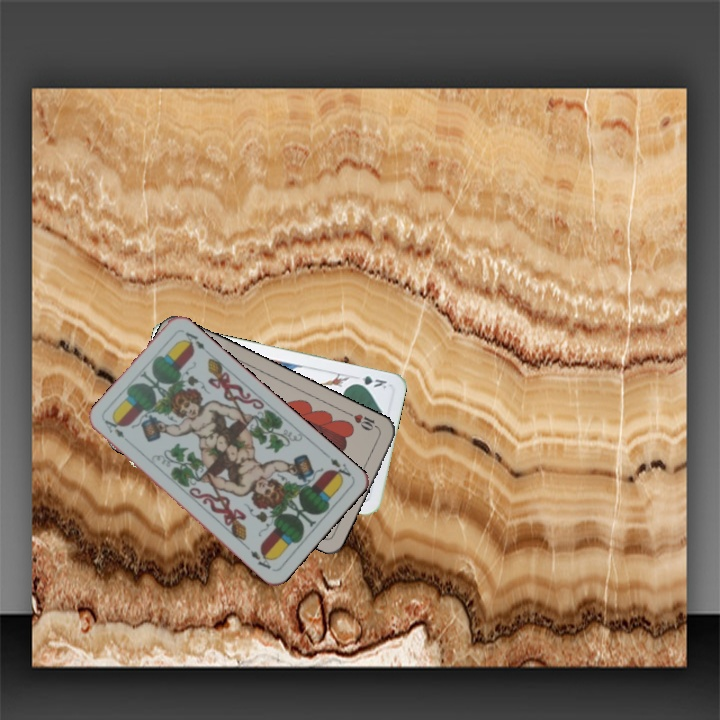EA: (321, 450, 353, 483), (100, 416, 127, 441)
GK: (350, 371, 389, 392)
H10: (344, 408, 382, 433)
